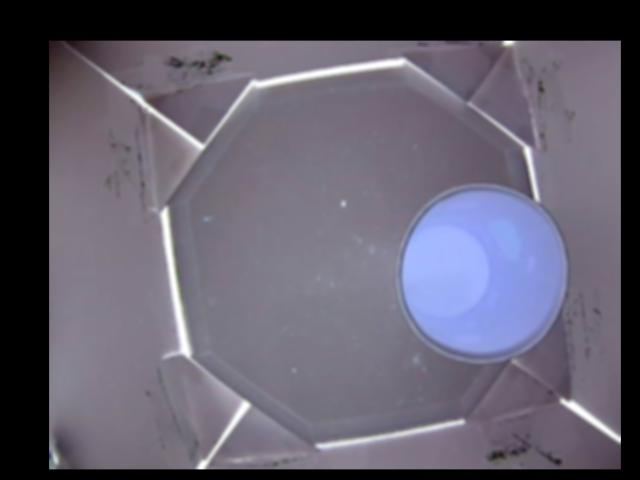Cup: (395, 183, 569, 359)
